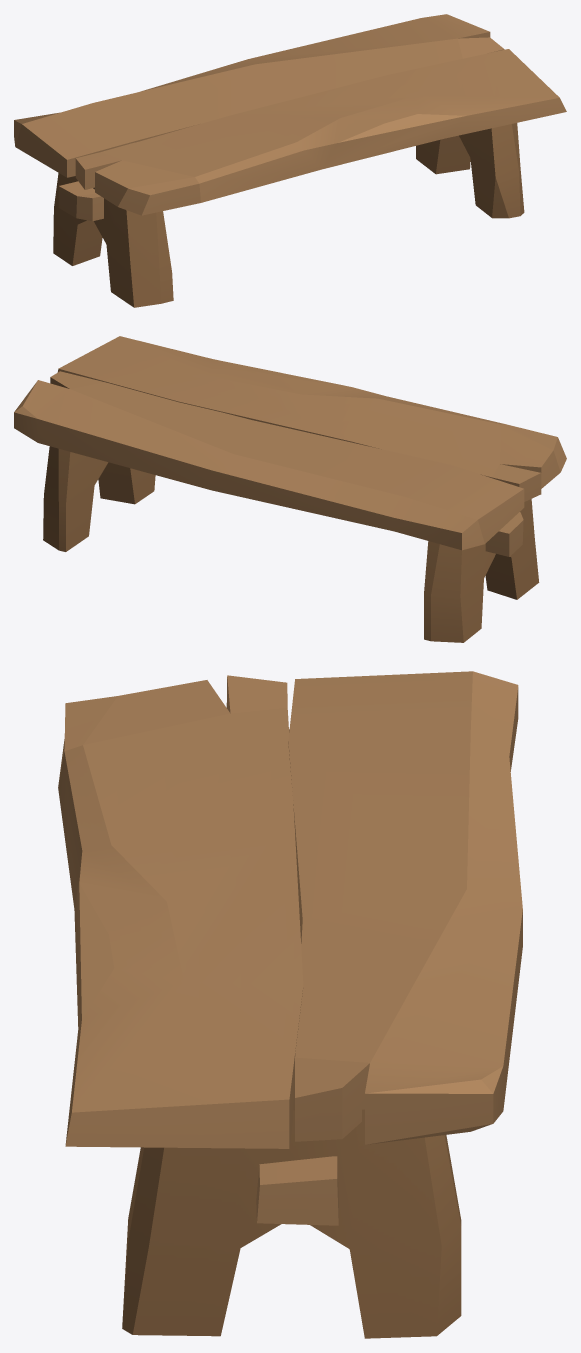
The model's file is Bench_B.fbx.
3 views of the same model, one above another, from view 1: azimuth 30°, elevation 25°; view 2: azimuth 150°, elevation 25°; view 3: azimuth 270°, elevation 25° (orthographic). The views are drawn at different scales.
Parts seen in each view (by area): view 1: Bench_B; view 2: Bench_B; view 3: Bench_B.
Part boxes in pixels (x1,y1,x2,y2): Bench_B: (14, 14, 566, 307); Bench_B: (14, 336, 566, 642); Bench_B: (58, 671, 522, 1338).
Bounding box in the file's own units: 173 × 48.42 × 77.01.
